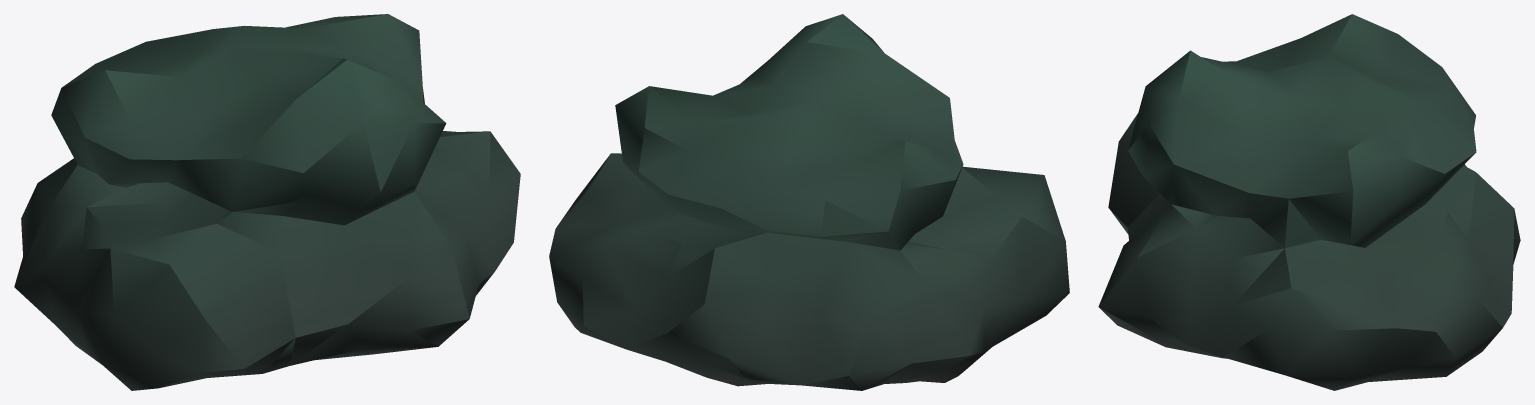
Rendered from SM_Rock_12.fbx.
3 views of the same model, side by side, from view 1: azimuth 30°, elevation 25°; view 2: azimuth 150°, elevation 25°; view 3: azimuth 270°, elevation 25° (orthographic). The views are drawn at different scales.
Parts seen in each view (by area): view 1: SM_Rock_12; view 2: SM_Rock_12; view 3: SM_Rock_12.
Boxes of the visible parts, left/top/right/bottom form: SM_Rock_12: left=14, top=14, right=520, bottom=390; SM_Rock_12: left=549, top=14, right=1069, bottom=390; SM_Rock_12: left=1098, top=14, right=1520, bottom=390.
Bounding box in the file's own units: 331 × 214 × 284.
1 material, 1 textured.
